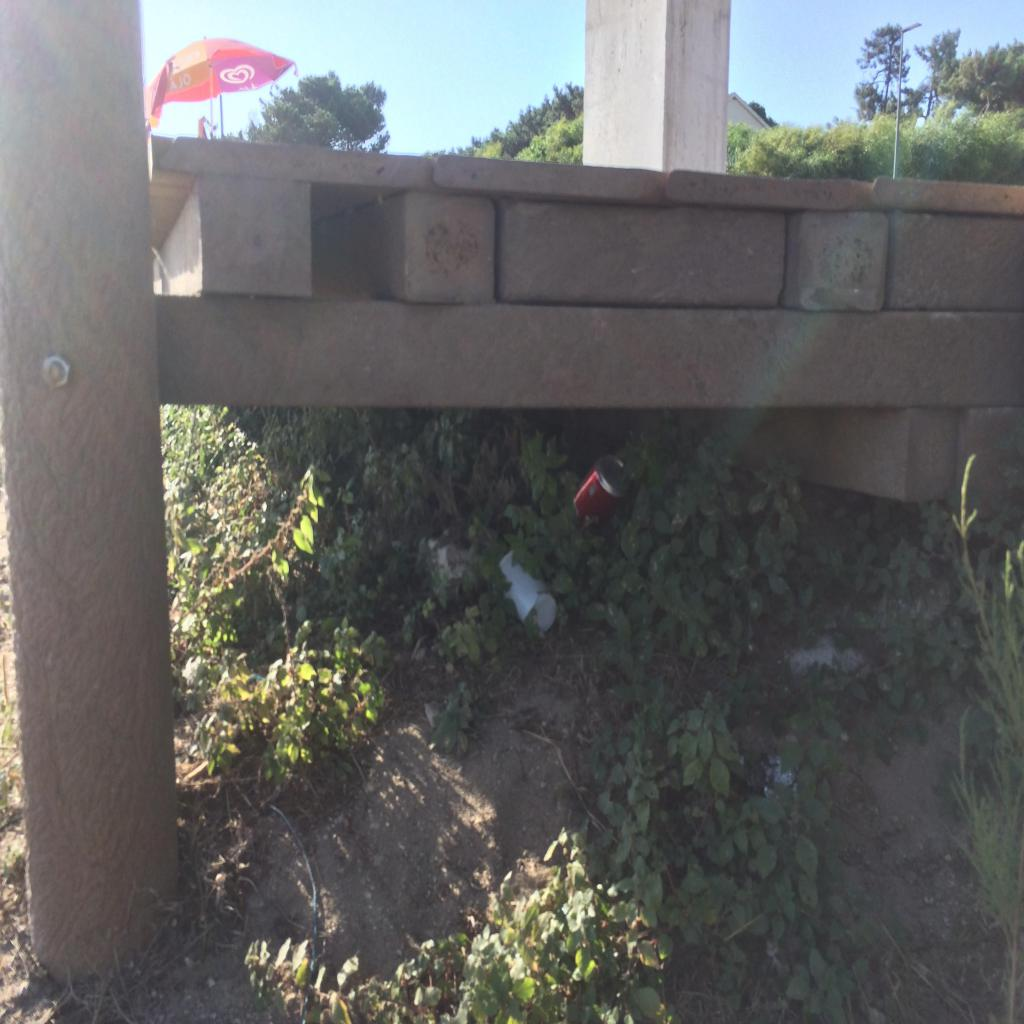Disposable plastic cup: (500, 548, 560, 632)
Drink can: (572, 453, 632, 527)
